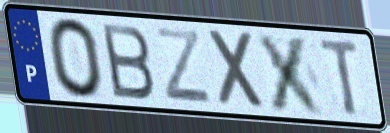B: (98, 20, 157, 102)
O: (45, 15, 107, 101)
T: (318, 36, 363, 118)
X: (254, 30, 329, 118), (205, 26, 268, 113)
Z: (153, 25, 214, 107)
